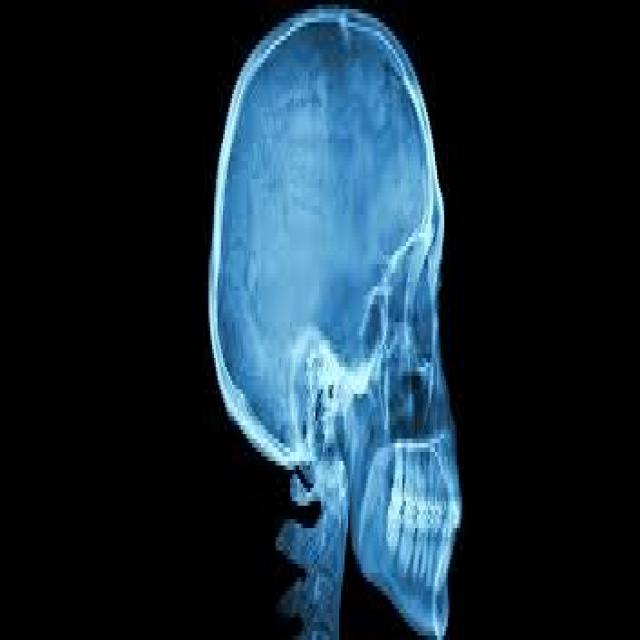skull: (205, 0, 471, 640)
